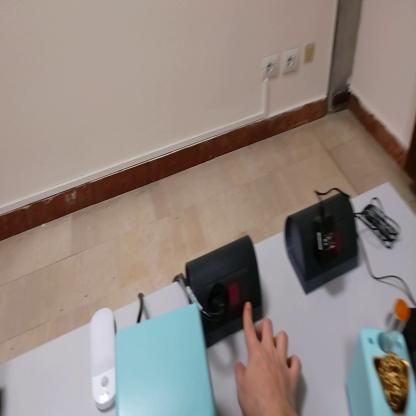electric screwdriver battery: (402, 309, 415, 376)
hand: (235, 301, 300, 415)
socket: (183, 236, 261, 349), (285, 192, 361, 296)
welder base: (347, 323, 415, 414)
welder station: (116, 302, 214, 414)
